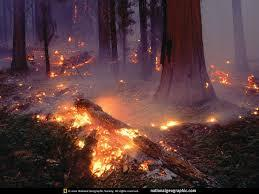fire: (33, 98, 151, 180), (44, 33, 94, 79), (203, 64, 258, 95), (151, 115, 221, 131), (128, 44, 160, 71)
